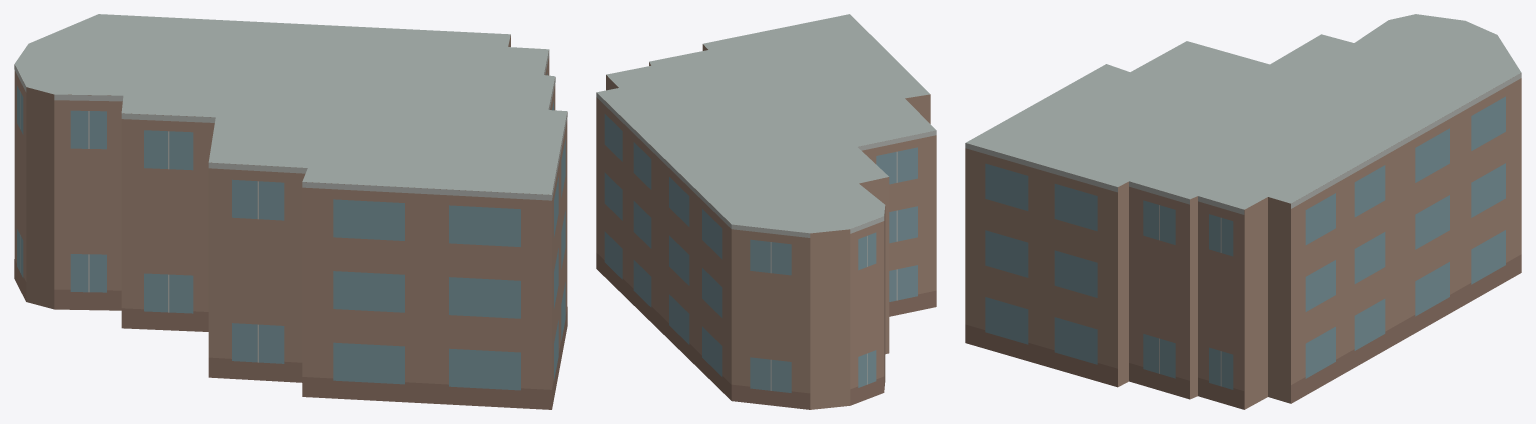
The model's file is survey-upis-32475836.glb.
The picture shows the model from 3 angles, left to right: view 1: azimuth 30°, elevation 25°; view 2: azimuth 150°, elevation 25°; view 3: azimuth 270°, elevation 25°; orthographic projection. The views are drawn at different scales.
Visible parts, largest first — view 1: survey-upis-32475836.tmp; view 2: survey-upis-32475836.tmp; view 3: survey-upis-32475836.tmp.
Boxes of the visible parts, x1=… form: survey-upis-32475836.tmp: x1=14, y1=14, x2=567, y2=409; survey-upis-32475836.tmp: x1=596, y1=14, x2=936, y2=409; survey-upis-32475836.tmp: x1=965, y1=14, x2=1521, y2=409.
Bounding box in the file's own units: 19.2 × 9.15 × 23.05.
